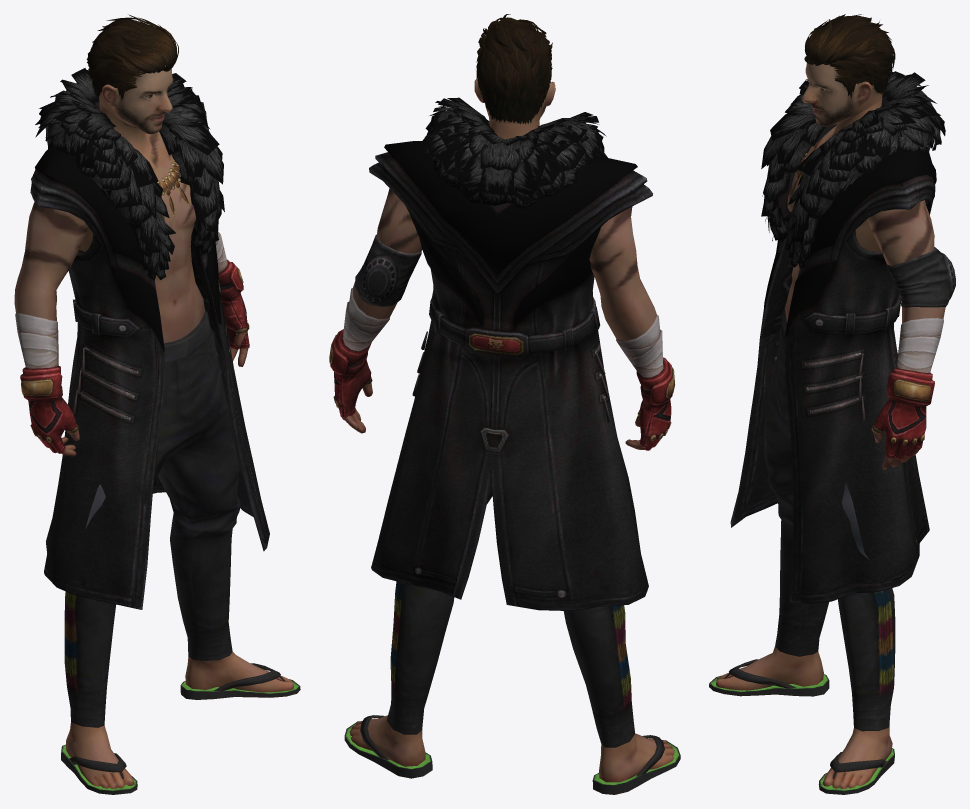
Rendered from asset.glb.
The picture shows the model from 3 angles, left to right: view 1: azimuth 30°, elevation 25°; view 2: azimuth 150°, elevation 25°; view 3: azimuth 270°, elevation 25°; orthographic projection. The views are drawn at different scales.
Visible parts, largest first — view 1: Mesh_0021.rip, Mesh_0019.rip, Mesh_0017.rip, Mesh_0014.rip, Mesh_0003.rip, Mesh_0056.rip, Mesh_0016.rip; view 2: Mesh_0021.rip, Mesh_0017.rip, Mesh_0003.rip, Mesh_0019.rip, Mesh_0014.rip, Mesh_0056.rip, Mesh_0016.rip; view 3: Mesh_0021.rip, Mesh_0014.rip, Mesh_0019.rip, Mesh_0017.rip, Mesh_0003.rip, Mesh_0056.rip, Mesh_0016.rip.
Boxes of the visible parts, left/top/right/bottom form: Mesh_0021.rip: left=15, top=101, right=269, bottom=609; Mesh_0019.rip: left=64, top=310, right=240, bottom=727; Mesh_0017.rip: left=14, top=65, right=293, bottom=788; Mesh_0014.rip: left=35, top=68, right=224, bottom=280; Mesh_0003.rip: left=35, top=95, right=221, bottom=351; Mesh_0056.rip: left=86, top=14, right=178, bottom=100; Mesh_0016.rip: left=61, top=663, right=300, bottom=794; Mesh_0021.rip: left=329, top=152, right=674, bottom=610; Mesh_0017.rip: left=343, top=79, right=674, bottom=782; Mesh_0003.rip: left=384, top=141, right=637, bottom=330; Mesh_0019.rip: left=387, top=481, right=634, bottom=747; Mesh_0014.rip: left=422, top=97, right=607, bottom=208; Mesh_0056.rip: left=476, top=14, right=552, bottom=124; Mesh_0016.rip: left=344, top=715, right=680, bottom=794; Mesh_0021.rip: left=730, top=96, right=955, bottom=603; Mesh_0014.rip: left=761, top=71, right=945, bottom=268; Mesh_0019.rip: left=764, top=303, right=895, bottom=731; Mesh_0017.rip: left=716, top=61, right=945, bottom=788; Mesh_0003.rip: left=764, top=147, right=936, bottom=337; Mesh_0056.rip: left=804, top=14, right=895, bottom=98; Mesh_0016.rip: left=709, top=659, right=894, bottom=794.
Bounding box in the file's own units: 3.71 × 8.73 × 2.77.
Materials: 7 (7 with a texture image).
